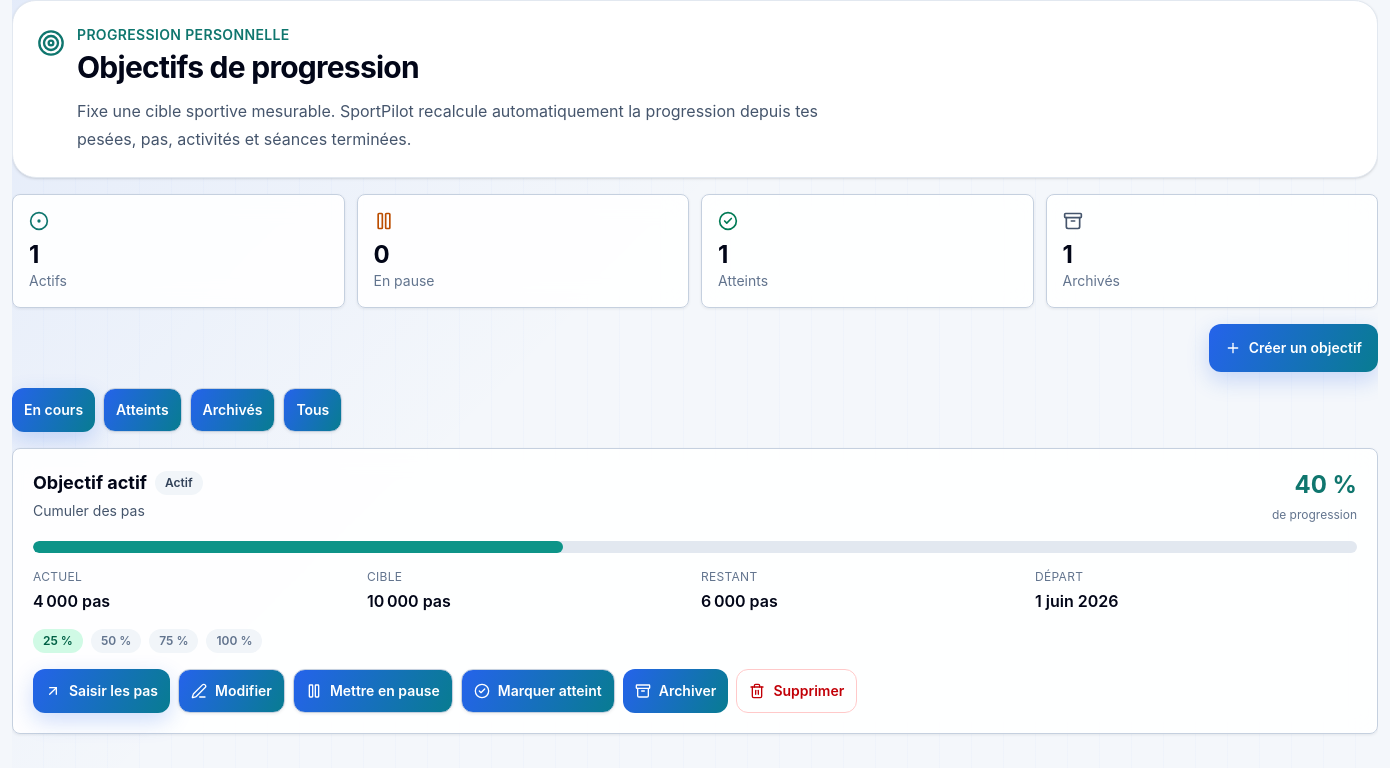
it: GoalsPage › affiche les compteurs et filtre les objectifs
Check: the heading "Objectif actif" is shown, box [33, 469, 147, 497]
Check: the text "Objectif atteint" is not shown
Click the button "Atteints" at (142, 410), box [103, 388, 182, 432]
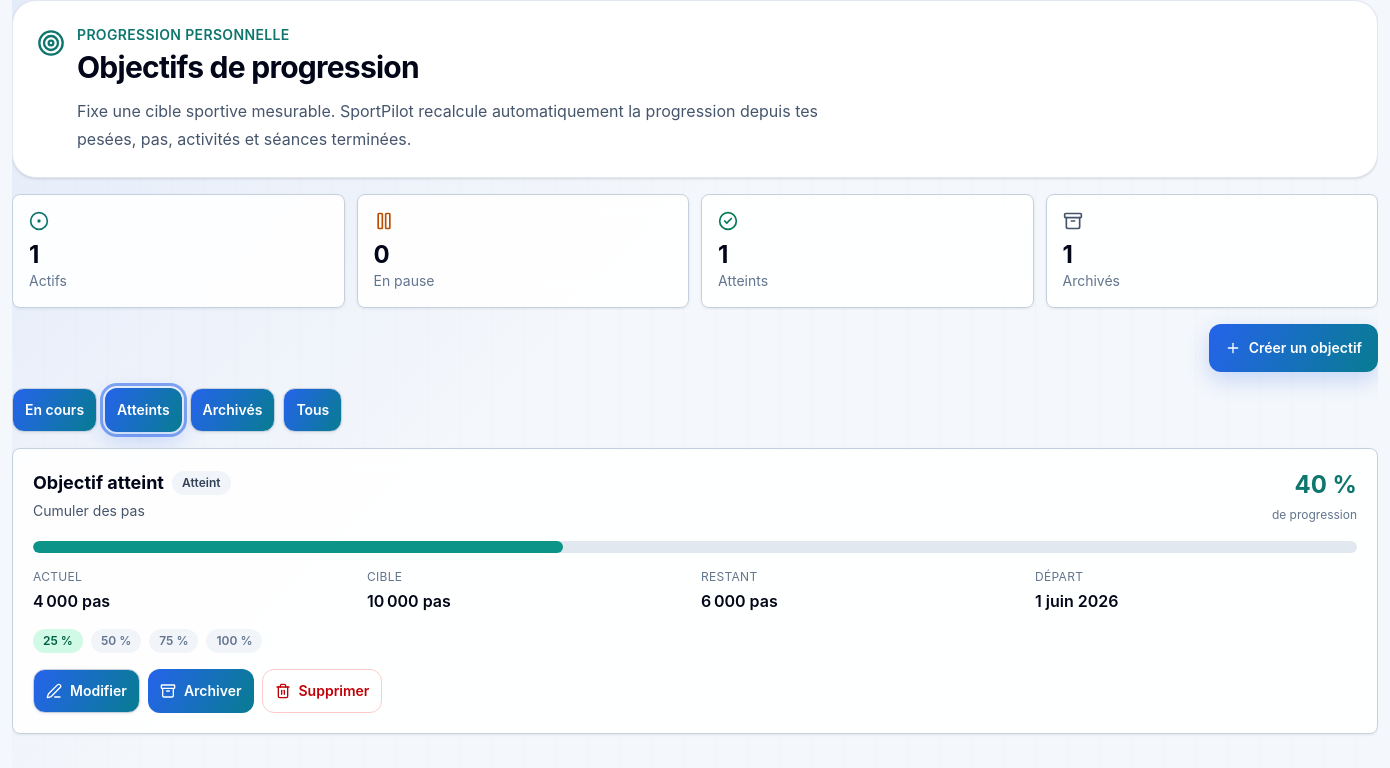
Check: the heading "Objectif atteint" is shown, box [33, 469, 164, 497]
Check: the heading "Objectif actif" is gone
